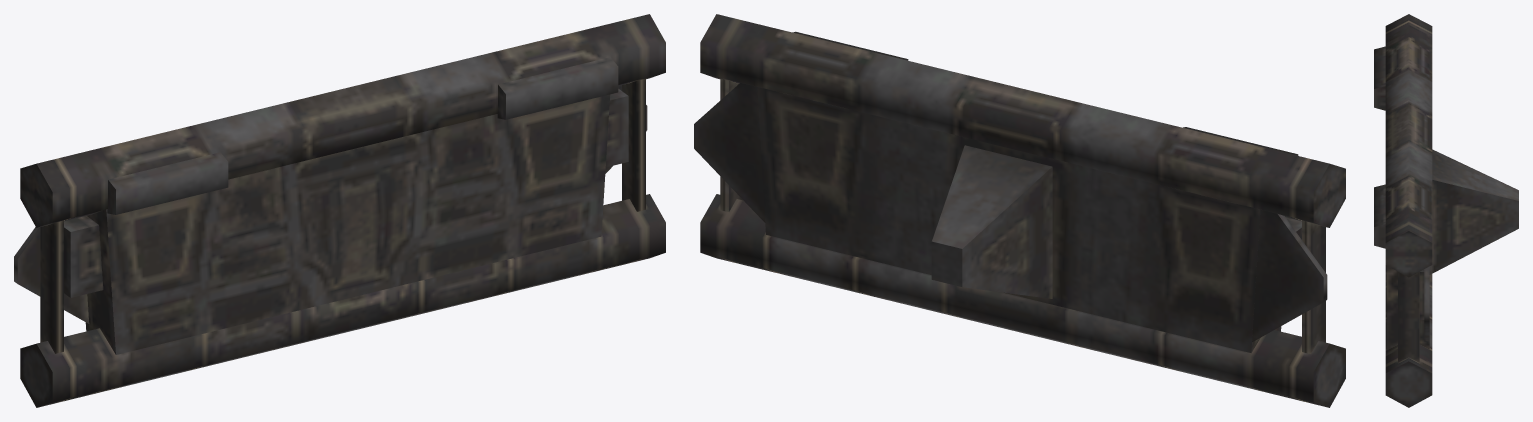
3 views of the same model, side by side, from view 1: azimuth 30°, elevation 25°; view 2: azimuth 150°, elevation 25°; view 3: azimuth 270°, elevation 25° (orthographic). The views are drawn at different scales.
Visible parts, largest first — view 1: set_0_group_0; view 2: set_0_group_0; view 3: set_0_group_0.
Boxes of the visible parts, x1=… form: set_0_group_0: x1=14, y1=14, x2=665, y2=407; set_0_group_0: x1=694, y1=14, x2=1345, y2=407; set_0_group_0: x1=1374, y1=14, x2=1518, y2=407.
Bounding box in the file's own units: 0.5644 × 0.2093 × 0.1551.
1 material, 1 textured.
